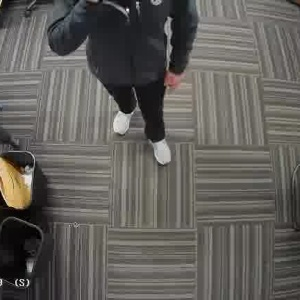person: (72, 0, 189, 157)
